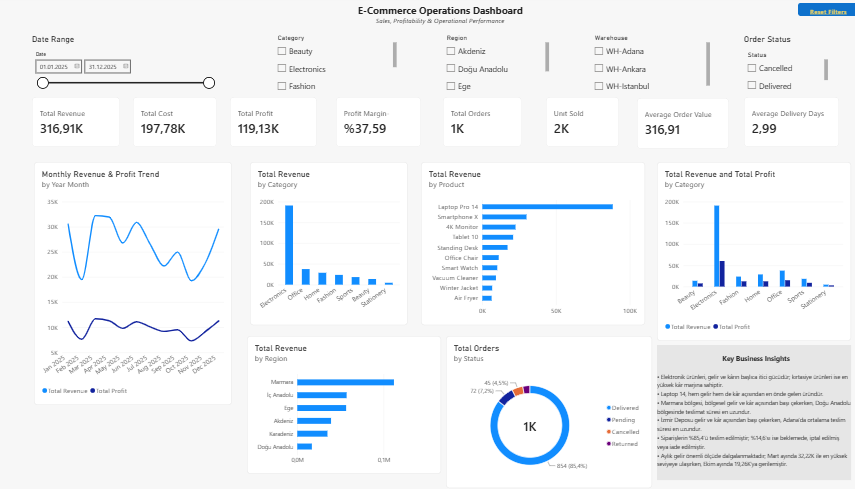

The dashboard page shown, as its layout file describes it:
{"tool":"powerbi","page":{"name":"Executive Overview","canvas":[1920,1080],"ordinal":1},"visuals":[{"type":"textbox","box":[692.5,17.5,534.6,89.4],"z":0},{"type":"cardVisual","fields":{"Data":["orders.total revenue"]},"box":[74,222,190,108.3],"z":1000},{"type":"cardVisual","fields":{"Data":["orders.total cost"]},"box":[292,222,181.7,108.3],"z":2000},{"type":"cardVisual","fields":{"Data":["orders.total profit"]},"box":[504,222,188.3,108.3],"z":3000},{"type":"cardVisual","fields":{"Data":["orders.profit margin-new"]},"box":[734,222,184,108],"z":4000},{"type":"cardVisual","fields":{"Data":["orders.total orders"]},"box":[964,222,170,108],"z":5000},{"type":"cardVisual","fields":{"Data":["orders.unıt sold"]},"box":[1188.4,221.2,158.3,108.4],"z":6000},{"type":"cardVisual","fields":{"Data":["orders.average order value"]},"box":[1385.8,223.4,199.5,110.6],"z":7000},{"type":"cardVisual","fields":{"Data":["orders.AVERAGE DELIVERY DAYS"]},"box":[1617.8,221.2,206,108.4],"z":8000},{"type":"lineChart","title":"Monthly Revenue & Profit Trend","fields":{"Category":["DateTable.Year Month"],"Y":["orders.total revenue","orders.total profit"]},"box":[78.1,362.2,429.4,527],"z":9000},{"type":"clusteredColumnChart","title":"Total Revenue","fields":{"Category":["orders.Category"],"Y":["orders.total revenue"]},"box":[546.5,362.2,342,354],"z":10000},{"type":"donutChart","title":"Total Orders","fields":{"Category":["orders.Status"],"Y":["orders.total orders"]},"box":[971.6,739.5,446.7,329.6],"z":11000},{"type":"clusteredBarChart","title":"Total Revenue","fields":{"Category":["orders.Region"],"Y":["orders.total revenue"]},"box":[540,739.5,420.7,299.3],"z":12000},{"type":"clusteredBarChart","title":"Total Revenue","fields":{"Category":["orders.Product"],"Y":["orders.total revenue"]},"box":[917.3,362.2,486,354],"z":13000},{"type":"slicer","title":"Date Range","fields":{"Values":["DateTable.Date"]},"box":[74,84,400,138],"z":14000},{"type":"slicer","fields":{"Values":["orders.Region"]},"box":[964,84,230,138],"z":15000},{"type":"slicer","fields":{"Values":["orders.Category"]},"box":[598,84,266,138],"z":16000},{"type":"slicer","fields":{"Values":["orders.Warehouse"]},"box":[1286,84,258,138],"z":17000},{"type":"slicer","title":"Order Status","fields":{"Values":["orders.Status"]},"box":[1618,84,182,138],"z":18000},{"type":"actionButton","box":[1735,17.5,132,28],"z":18001},{"type":"clusteredColumnChart","fields":{"Category":["orders.Category"],"Y":["orders.total revenue","orders.total profit"]},"box":[1429.2,362.2,420.7,388.2],"z":18002},{"type":"textbox","box":[1429.6,758,421,292.6],"z":18003}]}

Visuals, with their boxes in screenshot pixels (x1, y1, x2, y2), scaled from the page's 1920x1080 canvas onto the 859x490 screenshot:
textbox: [x1=310, y1=8, x2=549, y2=49]
cardVisual - orders.total revenue: [x1=33, y1=101, x2=118, y2=150]
cardVisual - orders.total cost: [x1=131, y1=101, x2=212, y2=150]
cardVisual - orders.total profit: [x1=225, y1=101, x2=310, y2=150]
cardVisual - orders.profit margin-new: [x1=328, y1=101, x2=411, y2=150]
cardVisual - orders.total orders: [x1=431, y1=101, x2=507, y2=150]
cardVisual - orders.unıt sold: [x1=532, y1=100, x2=603, y2=150]
cardVisual - orders.average order value: [x1=620, y1=101, x2=709, y2=152]
cardVisual - orders.AVERAGE DELIVERY DAYS: [x1=724, y1=100, x2=816, y2=150]
"Monthly Revenue & Profit Trend" lineChart: [x1=35, y1=164, x2=227, y2=403]
"Total Revenue" clusteredColumnChart: [x1=245, y1=164, x2=398, y2=325]
"Total Orders" donutChart: [x1=435, y1=336, x2=635, y2=485]
"Total Revenue" clusteredBarChart: [x1=242, y1=336, x2=430, y2=471]
"Total Revenue" clusteredBarChart: [x1=410, y1=164, x2=628, y2=325]
"Date Range" slicer: [x1=33, y1=38, x2=212, y2=101]
slicer - orders.Region: [x1=431, y1=38, x2=534, y2=101]
slicer - orders.Category: [x1=268, y1=38, x2=387, y2=101]
slicer - orders.Warehouse: [x1=575, y1=38, x2=691, y2=101]
"Order Status" slicer: [x1=724, y1=38, x2=805, y2=101]
actionButton: [x1=776, y1=8, x2=835, y2=21]
clusteredColumnChart - orders.Category x orders.total revenue: [x1=639, y1=164, x2=828, y2=340]
textbox: [x1=640, y1=344, x2=828, y2=477]
